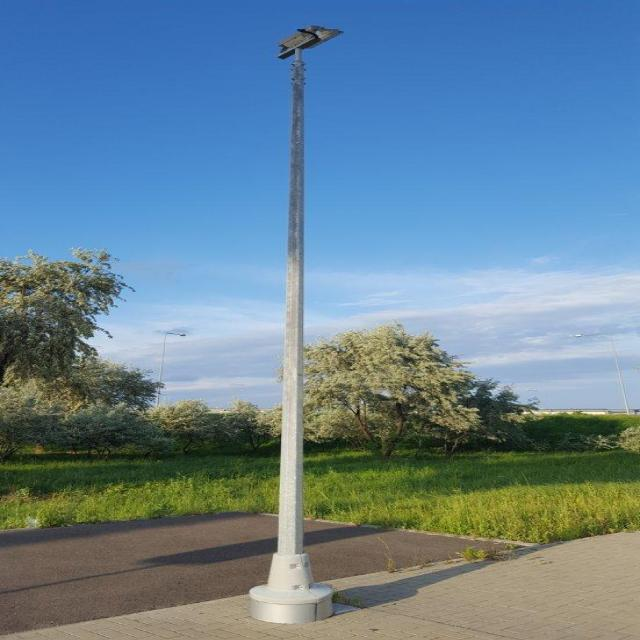pole: (260, 181, 367, 631)
